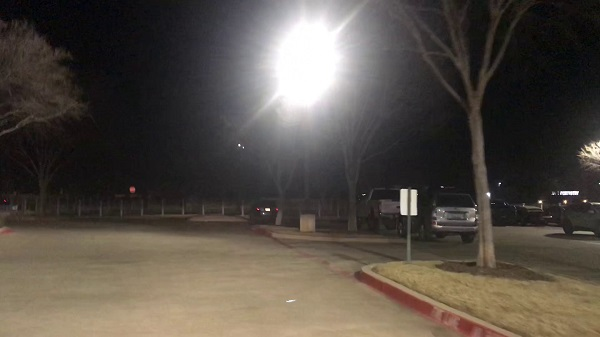car: (410, 188, 479, 245), (558, 194, 600, 237), (249, 196, 280, 223)
truck: (351, 182, 412, 230)
